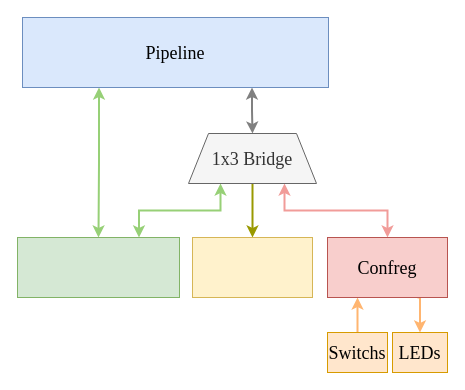
Image size: 465x390. Some labels were removed from this diagram. The centre of each missing label's shape, as x and y in pixels:
"Dual Port RAM" goes at point (98, 267).
"VGA" goes at point (252, 267).
